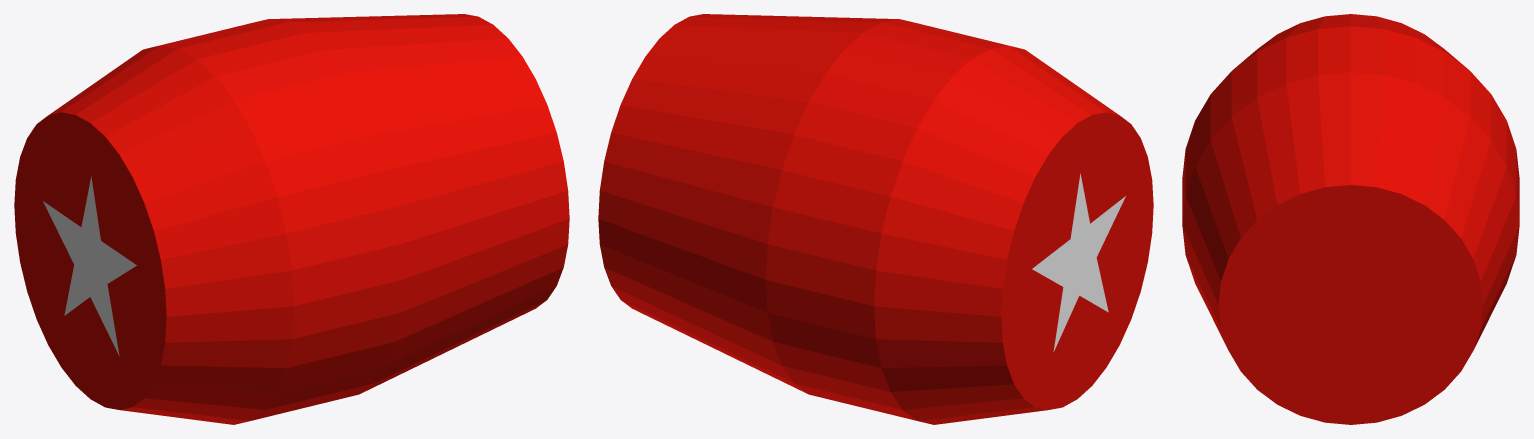
The model's file is PointPing.fbx.
3 renders of one model, left to right at view 1: azimuth 30°, elevation 25°; view 2: azimuth 150°, elevation 25°; view 3: azimuth 270°, elevation 25°, orthographic. The views are drawn at different scales.
Visible parts, largest first — view 1: Cylinder, Text; view 2: Cylinder, Text; view 3: Cylinder.
Part boxes in pixels (<box>): Cylinder: <box>14,14,569,424</box>; Text: <box>43,176,136,356</box>; Cylinder: <box>598,14,1153,424</box>; Text: <box>1032,173,1125,351</box>; Cylinder: <box>1182,14,1519,424</box>.
Size of the model in its own units: 306 by 255 by 255.
